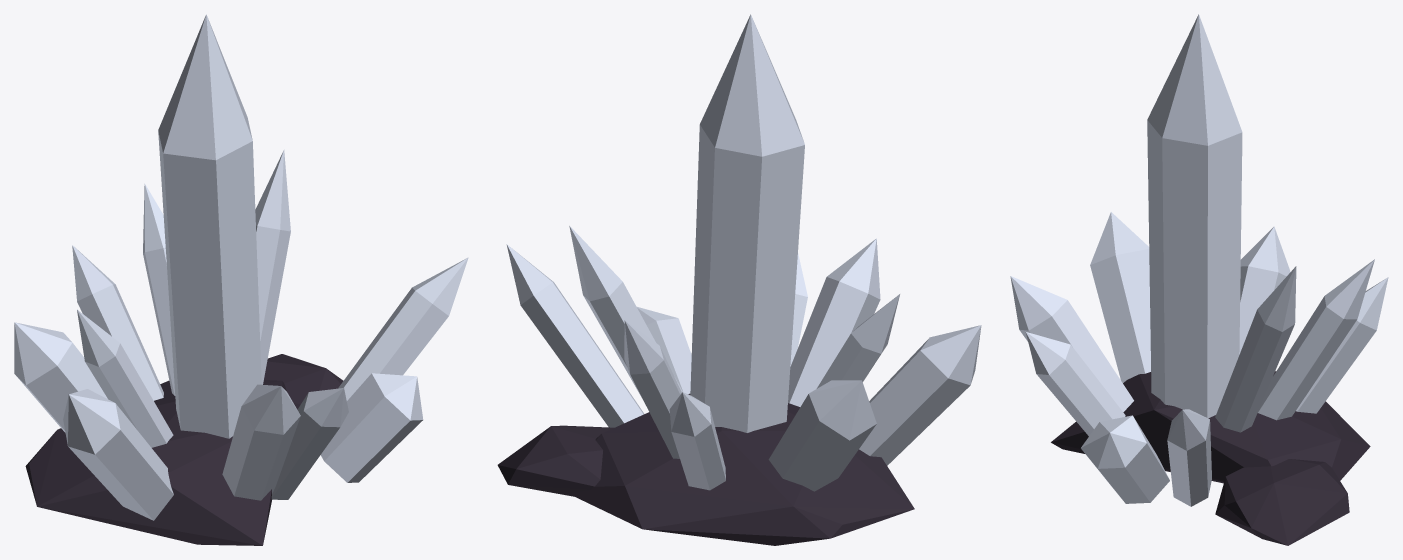
File: Crystal_ClusterLarge.obj
3 renders of one model, left to right at view 1: azimuth 30°, elevation 25°; view 2: azimuth 150°, elevation 25°; view 3: azimuth 270°, elevation 25°, orthographic. The views are drawn at different scales.
Parts seen in each view (by area): view 1: Crystal_ClusterLarge; view 2: Crystal_ClusterLarge; view 3: Crystal_ClusterLarge.
Part boxes in pixels (x1,y1,x2,y2): Crystal_ClusterLarge: (14, 14, 468, 545); Crystal_ClusterLarge: (497, 14, 981, 545); Crystal_ClusterLarge: (1010, 14, 1388, 545).
Bounding box in the file's own units: 1.33 × 1.37 × 1.06.
